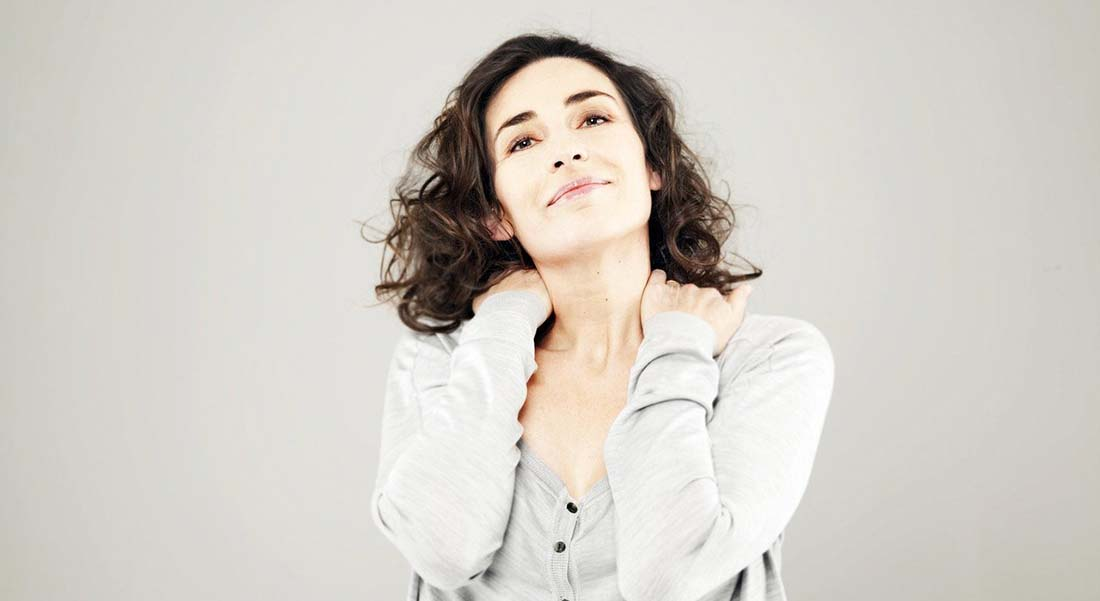without_mask: (481, 81, 658, 258)
